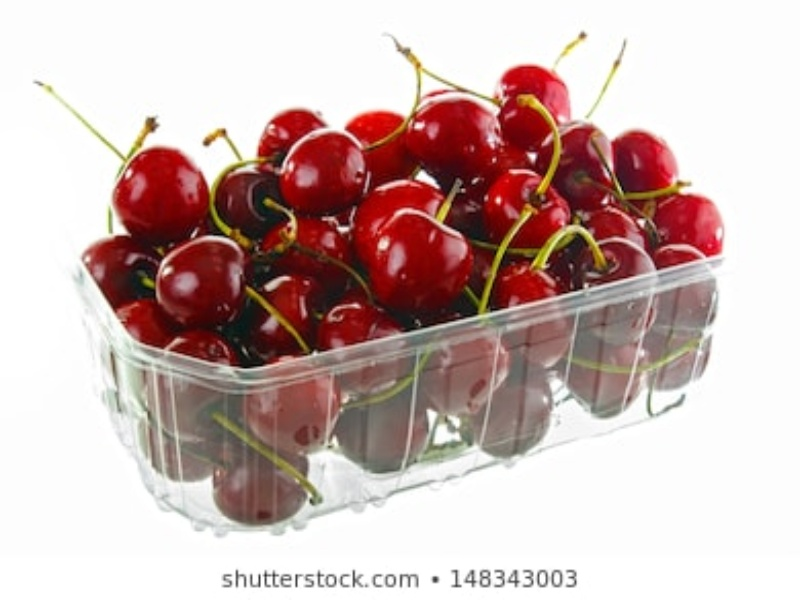plastic-container: (59, 229, 744, 538)
